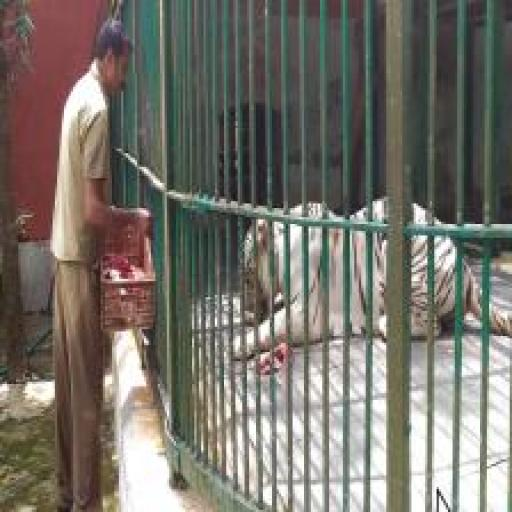Tiger: (231, 194, 512, 359)
